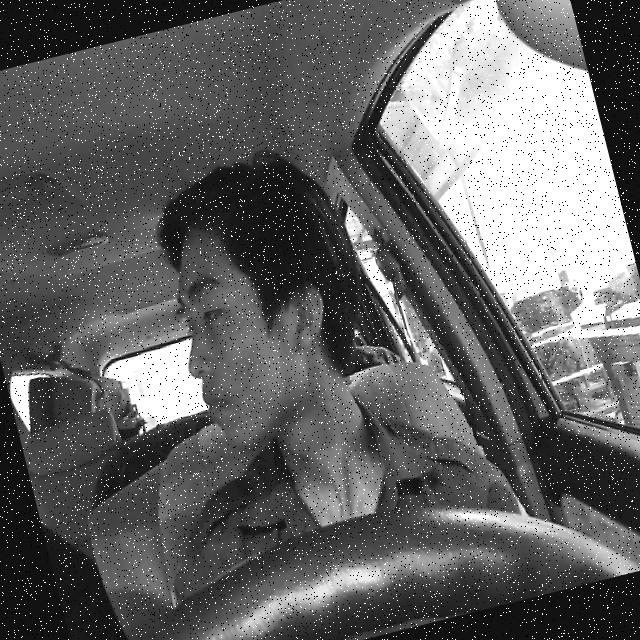seeing_left: (150, 190, 353, 457)
